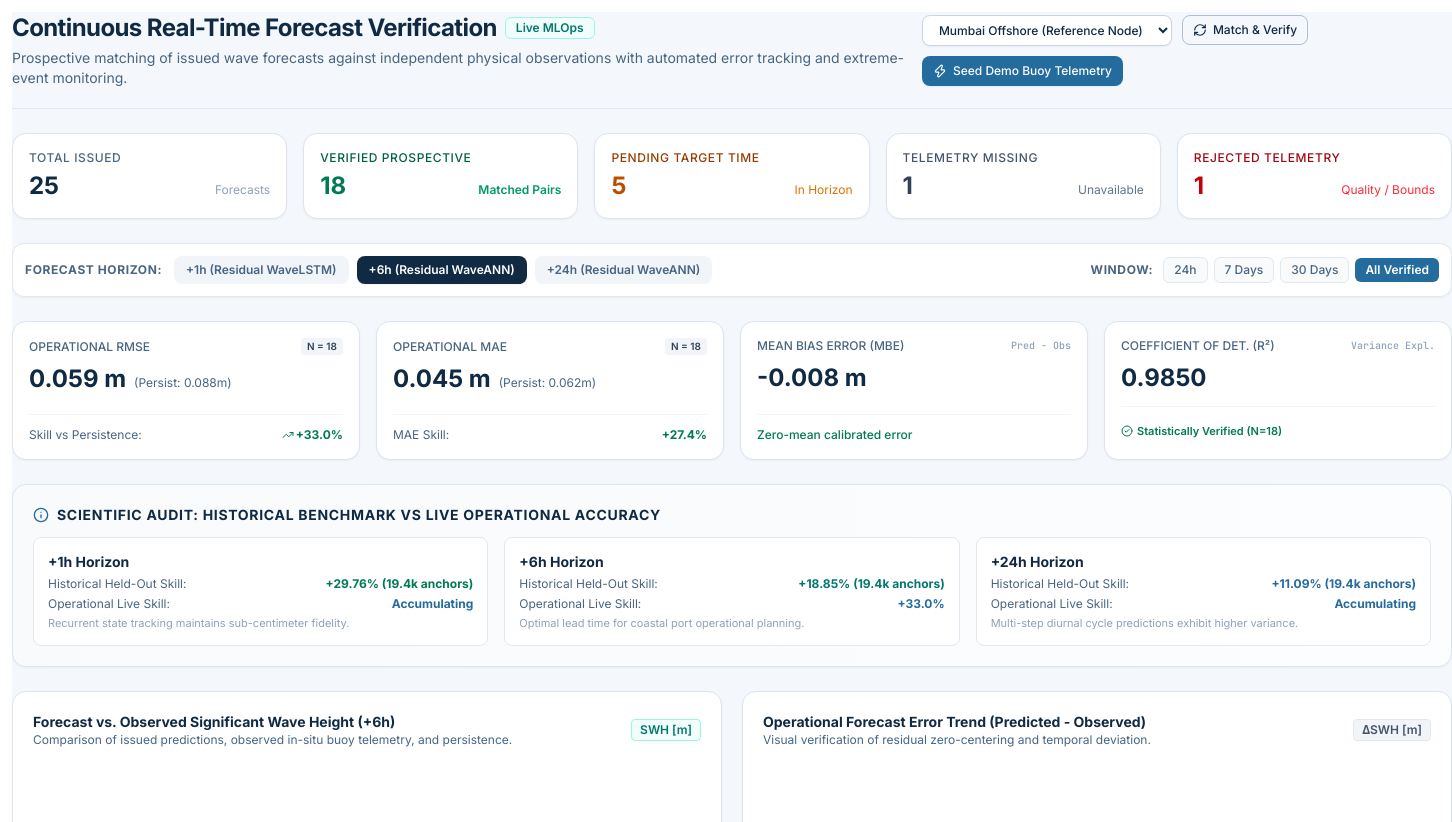
Test case: Continuous Real-Time Forecast Verification Page › allows switching forecast horizons
Click the button "+1h (Residual WaveLSTM)" at (261, 270), box 174,256 -> 349,284
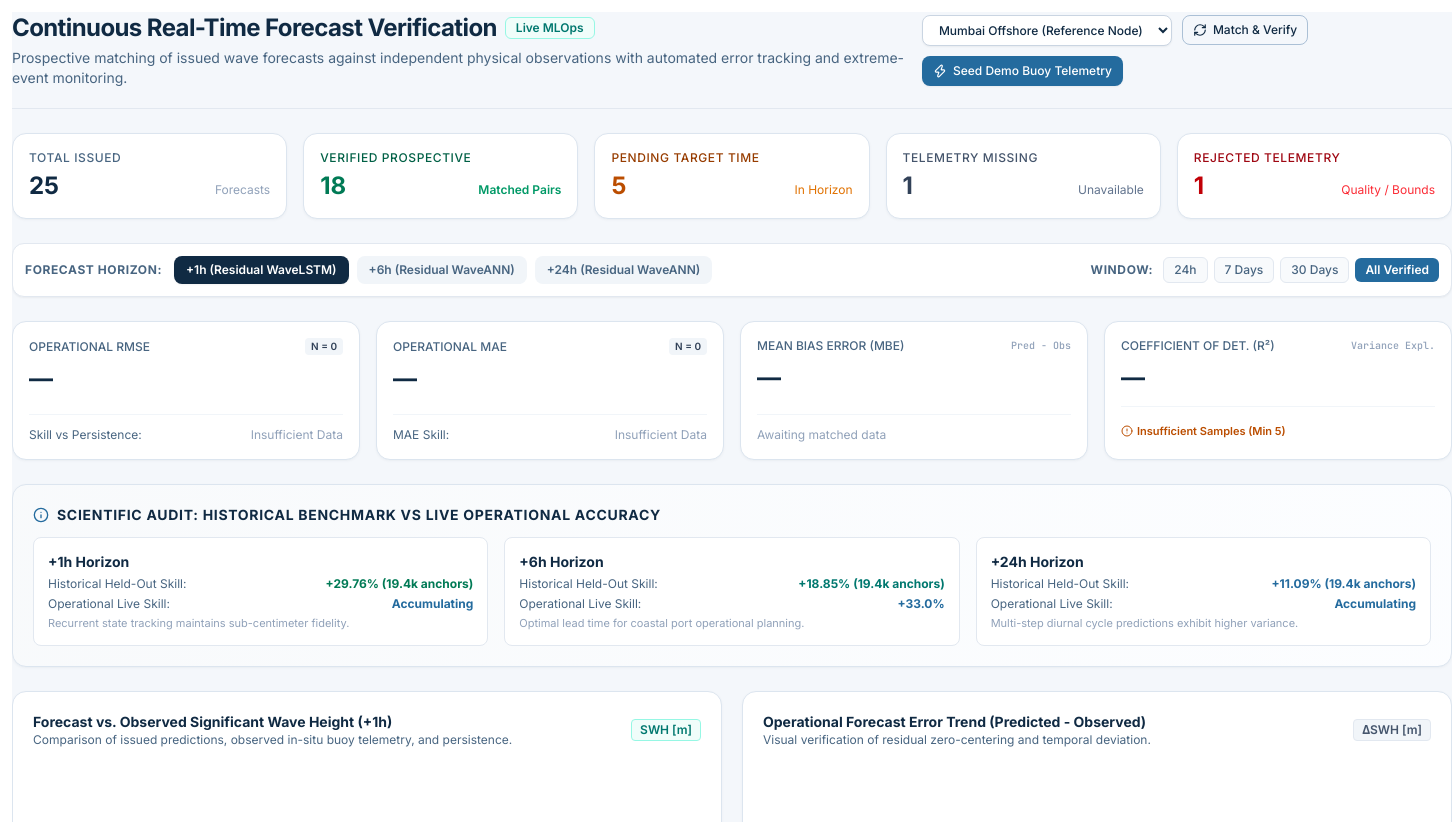
expect the button "+1h (Residual WaveLSTM)" has class "bg-[#102A43]": met, box 174,256 -> 349,284
